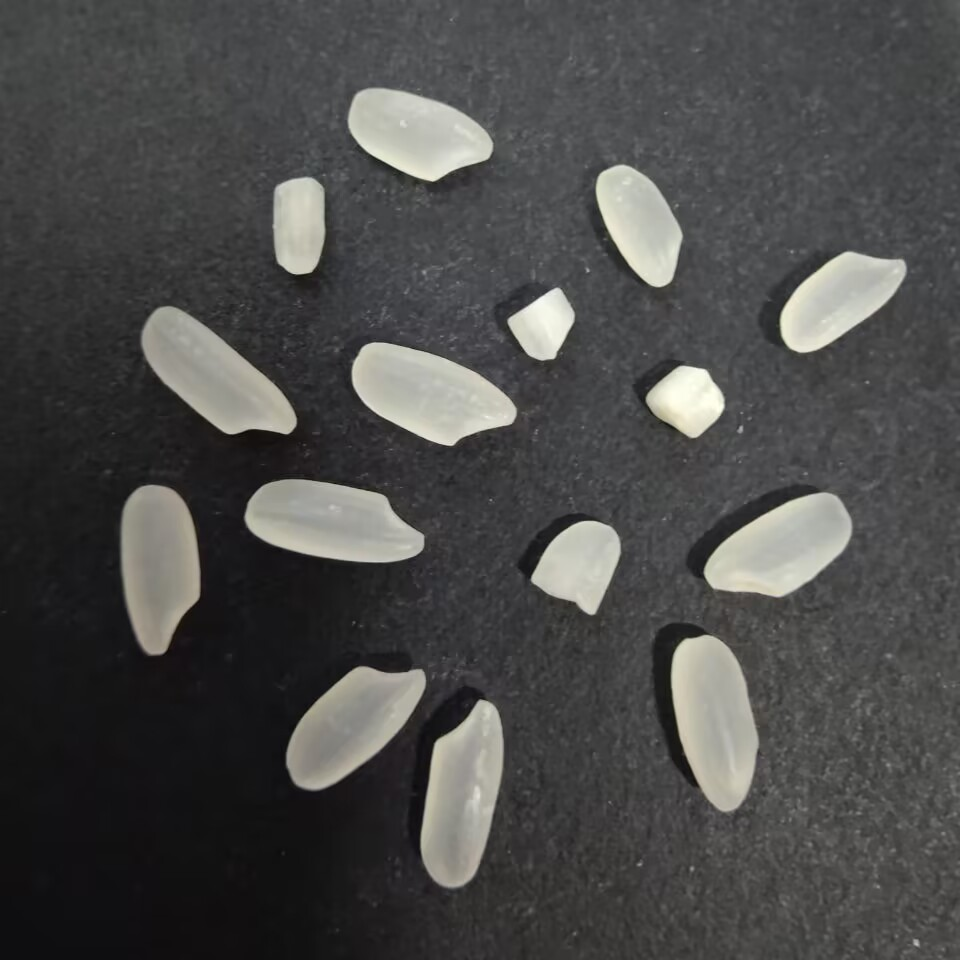broken: (525, 517, 623, 618), (268, 175, 333, 285), (643, 361, 729, 442), (505, 281, 578, 367)
rice: (136, 303, 300, 440), (282, 659, 428, 794), (348, 338, 518, 453), (415, 691, 508, 896), (667, 629, 766, 816), (696, 487, 857, 599), (238, 473, 427, 568), (115, 482, 207, 662), (773, 245, 914, 358), (347, 84, 498, 185), (589, 159, 688, 293)
